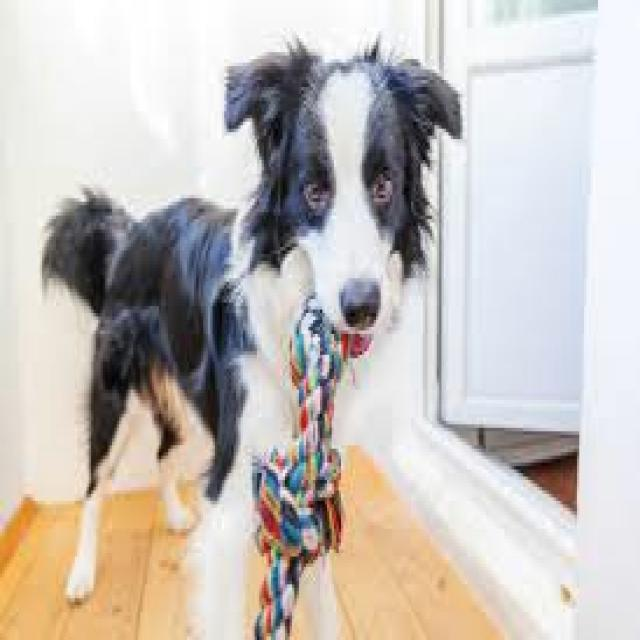dog: (42, 45, 458, 637)
